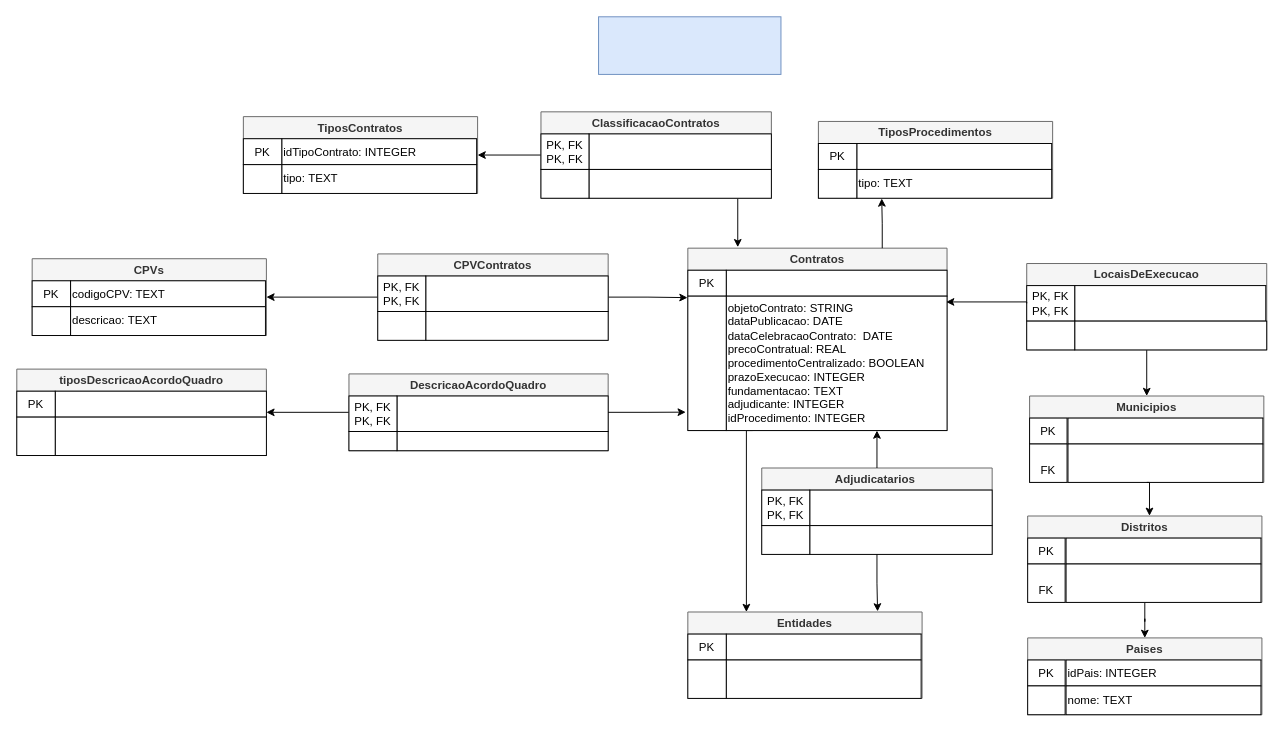
The diagram is 1284 pixels wide and 732 high, and some of its shapes have lost their labels. The centre of each missing label's shape, as x and y in pixels:
"FK FK" belongs at [706,363].
"idContrato: INTEGER" belongs at [836,282].
"idContrato: INTEGER codigoCPV : INTEGER" belongs at [516,293].
"idContrato: INTEGER idAdjudicante: INTEGER" belongs at [900,507].
"idContrato: INTEGER idDescricaoAcordoQuadro: INTEGER" belongs at [502,413].
"idContrato: INTEGER idMunicipio: INTEGER" belongs at [1170,303].
"idContrato: INTEGER idTipoContrato: INTEGER" belongs at [679,151].
"idDescricaoAcordoQuadro: INTEGER" belongs at [160,403].
"idDistrito: INTEGER" belongs at [1163,550].
"idEntidade: INTEGER" belongs at [823,646].
"identificador: TEXT descricao: TEXT" belongs at [160,436].
"idMunicipio: INTEGER" belongs at [1165,430].
"idProcedimento: INTEGER" belongs at [954,156].
"Modelo Relacional Contratos públicos" belongs at [689,45].
"nif: TEXT designacao: TEXT" belongs at [823,678].
"nome: TEXT idDistrito: INTEGER" belongs at [1165,462].
"nome: TEXT idPais: INTEGER" belongs at [1163,582].
